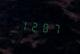one: (18, 18, 27, 32)
seven: (48, 20, 57, 35)
two: (28, 19, 37, 33)
zero: (38, 19, 47, 34)
